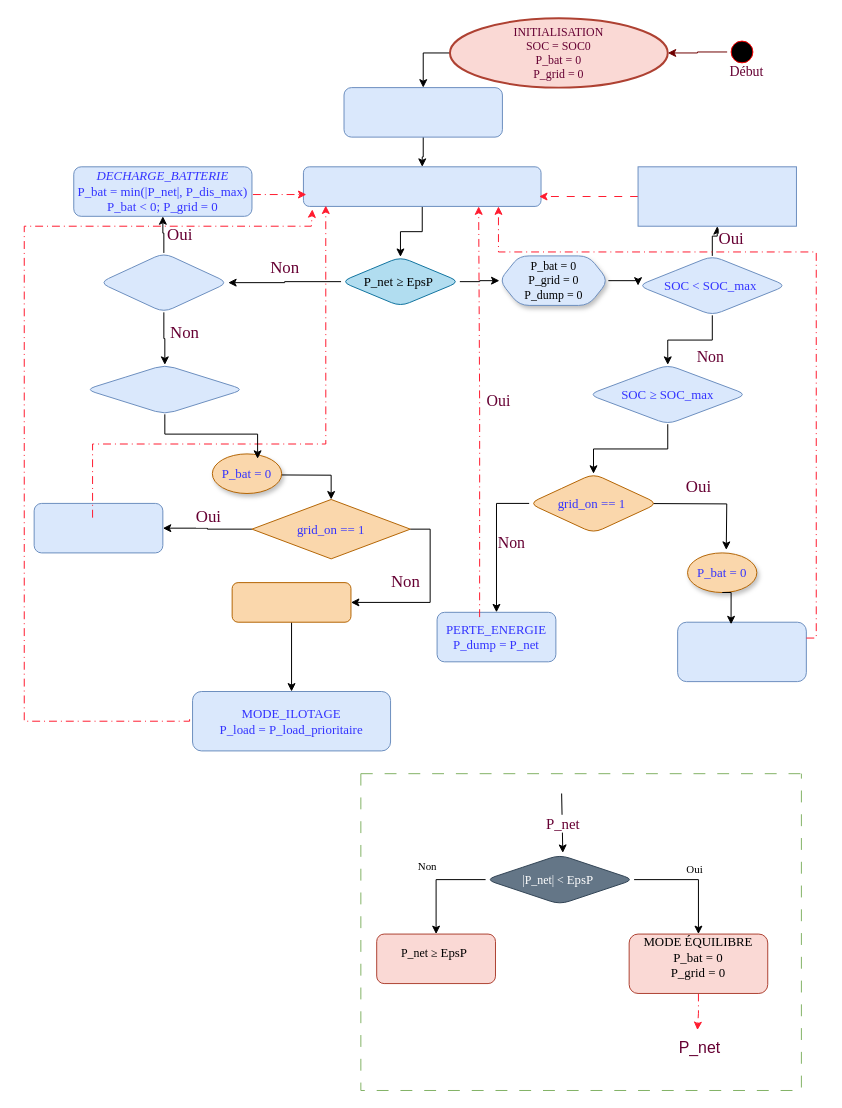
Image size: 842x1108. Some labels were removed from this diagram. The centre of each missing label's shape, as x and y in pixels:
"ACHAT_RESEAU P_grid = |P_net|" belongs at (x=98, y=527).
"Calcul puissance nette P_net = P_pv - P_load" belongs at (x=421, y=186).
"CHARGE_BATTERIE P_bat = min(P_net, P_ch_max)" belongs at (x=716, y=196).
"Entrées EMS P_pv ; P_load ; SOC, grid_on" belongs at (x=422, y=112).
"grid_on = 0" belongs at (x=291, y=602).
"SOC < SOC_min" belongs at (x=164, y=389).
"SOC > SOC_min" belongs at (x=163, y=282).
"VENTE_RESEAU P_grid = −P_net" belongs at (x=741, y=651).
